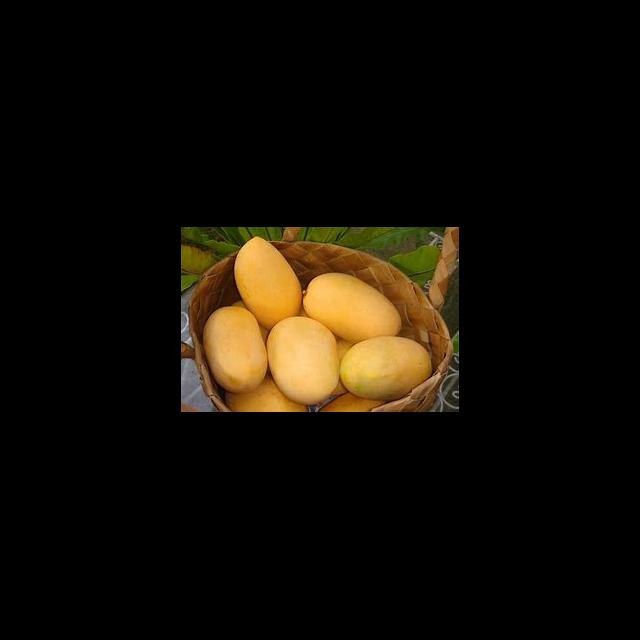mango: (302, 272, 402, 348), (267, 318, 339, 406), (339, 336, 432, 404), (234, 238, 302, 330), (202, 306, 267, 394), (222, 374, 308, 412)
